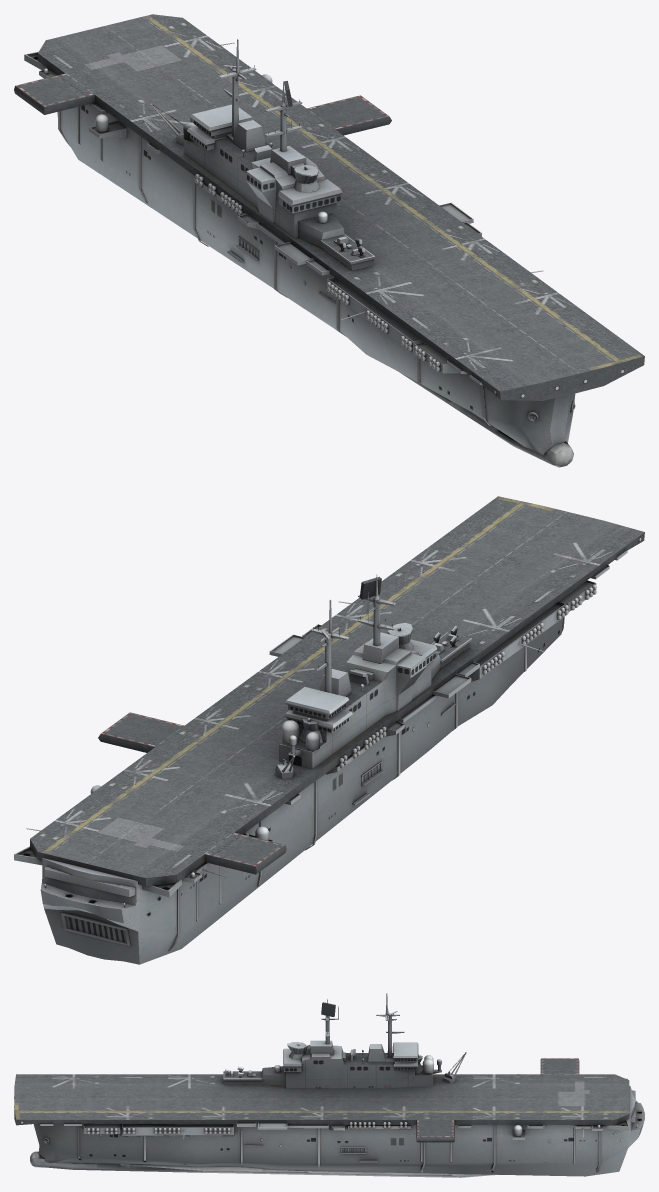
Rendered from lqgjj.gltf.
3 views of the same model, one above another, from view 1: azimuth 30°, elevation 25°; view 2: azimuth 150°, elevation 25°; view 3: azimuth 270°, elevation 25° (orthographic). The views are drawn at different scales.
Parts seen in each view (by area): view 1: LQGGJ_FHH; view 2: LQGGJ_FHH; view 3: LQGGJ_FHH.
Part boxes in pixels (x1,y1,x2,y2): LQGGJ_FHH: [14, 14, 644, 467]; LQGGJ_FHH: [14, 496, 644, 964]; LQGGJ_FHH: [14, 993, 644, 1177].
Bounding box in the file's own units: 7.62 × 7.13 × 25.48.
1 material, 1 textured.
